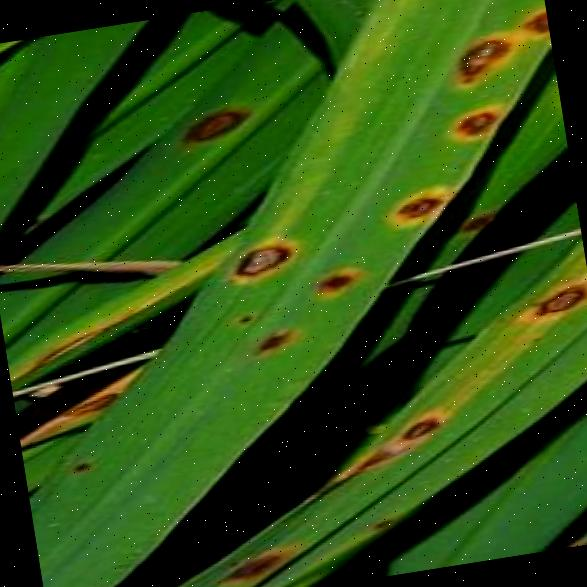Brown_Spot: (432, 8, 523, 105), (158, 89, 266, 157), (432, 79, 520, 159), (212, 226, 311, 296), (369, 168, 467, 238), (499, 263, 587, 336), (201, 532, 307, 587), (292, 252, 378, 310), (384, 404, 452, 452), (243, 315, 302, 366), (504, 0, 551, 62), (60, 452, 100, 480), (362, 509, 400, 536), (224, 302, 259, 330)
